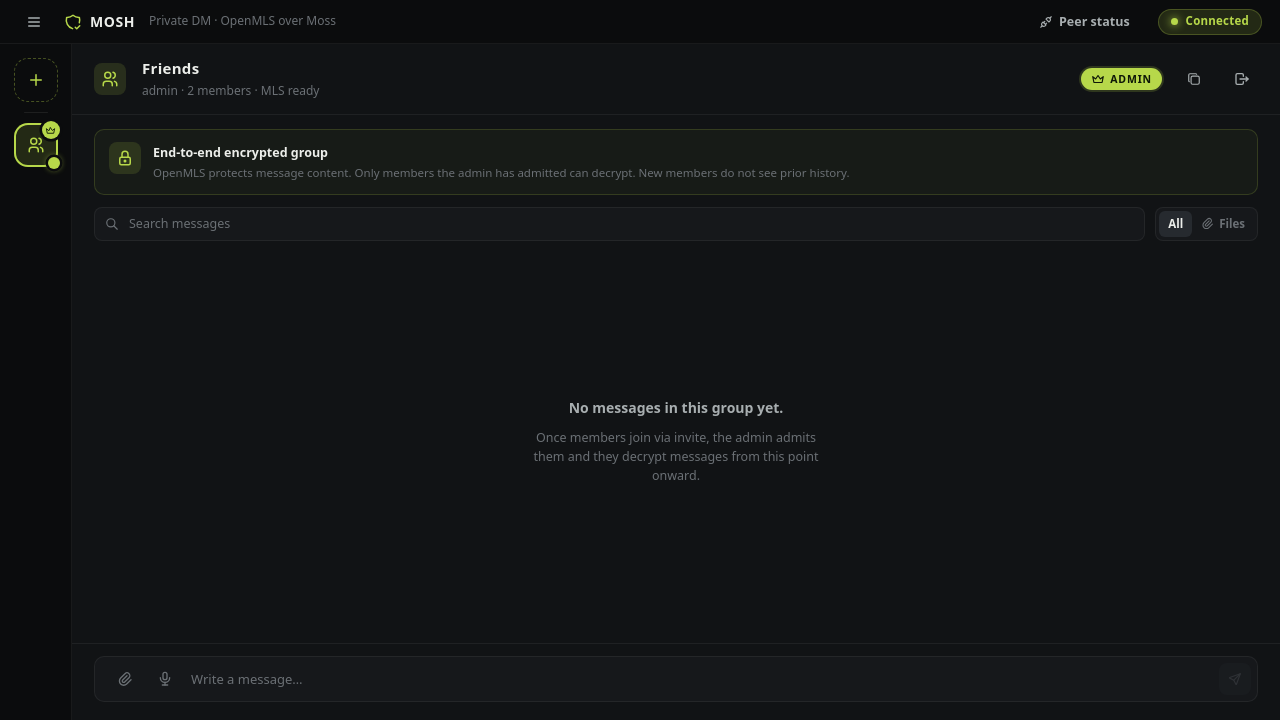
Test case: PrivateDmScreen onboarding › confirms active group invite copies
Expected: the heading "Friends" is shown, [142,58,199,78]
Click the button named "Copy invite". click: (1194, 79)
box: [1178,63,1210,95]
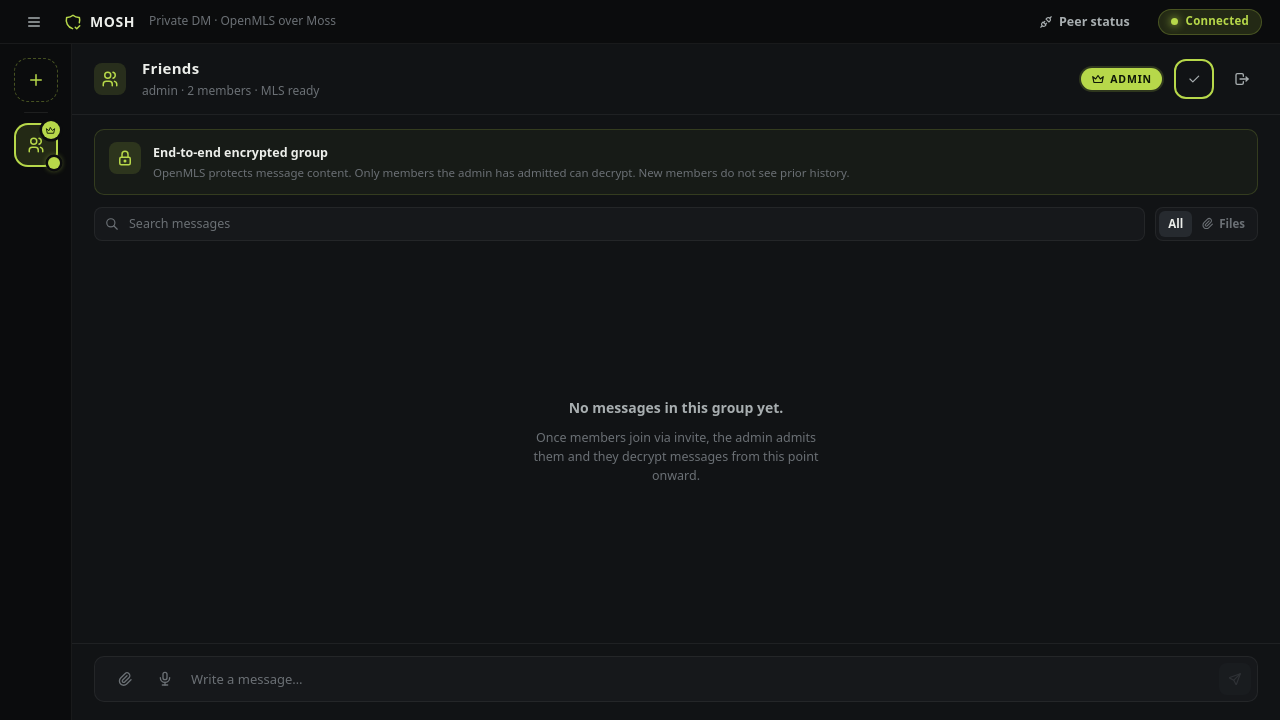
Expected: the button named "Invite copied" is shown, [1178,63,1210,95]
